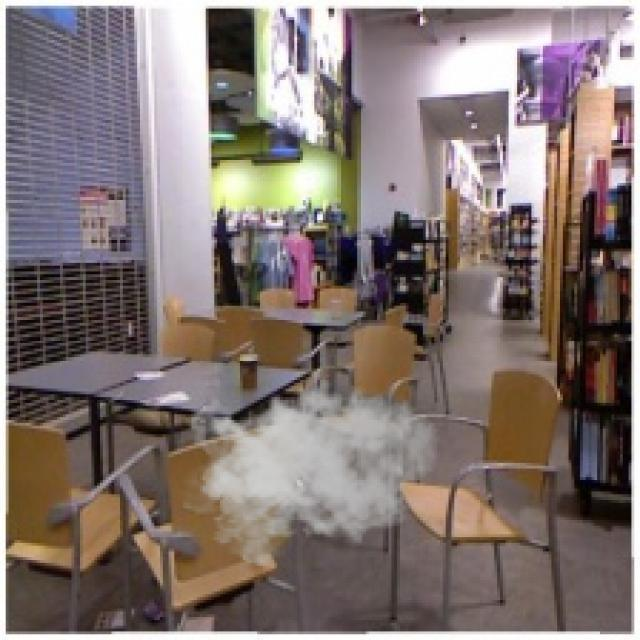Smoke: (183, 366, 440, 566)
